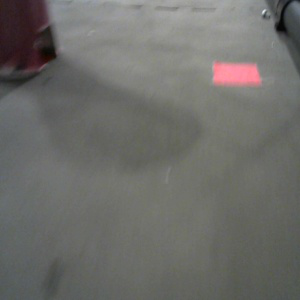right: (1, 1, 57, 81)
